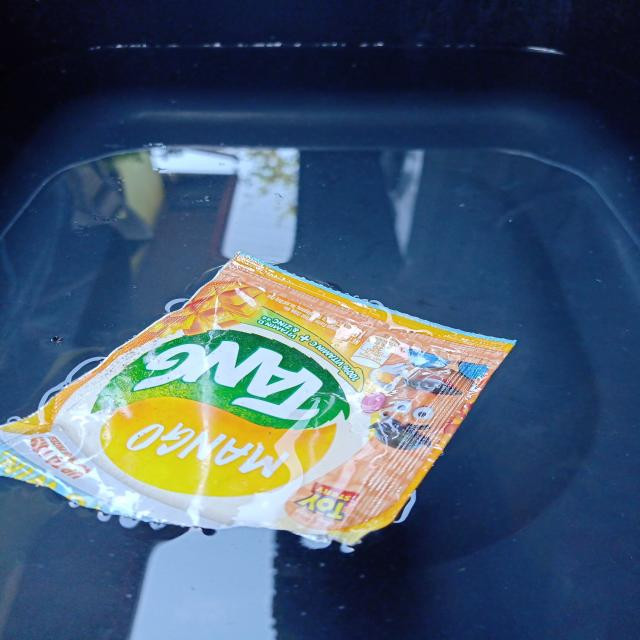Plastic Wrapper: (0, 253, 514, 547)
